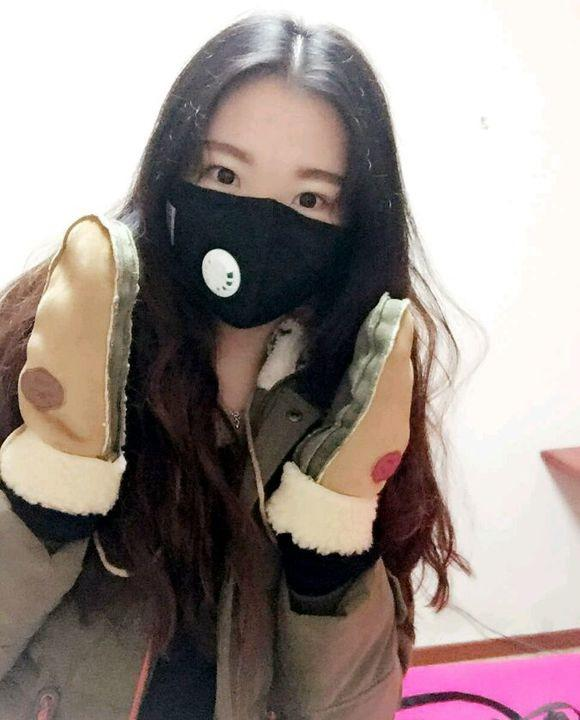OK: (165, 123, 367, 325)
